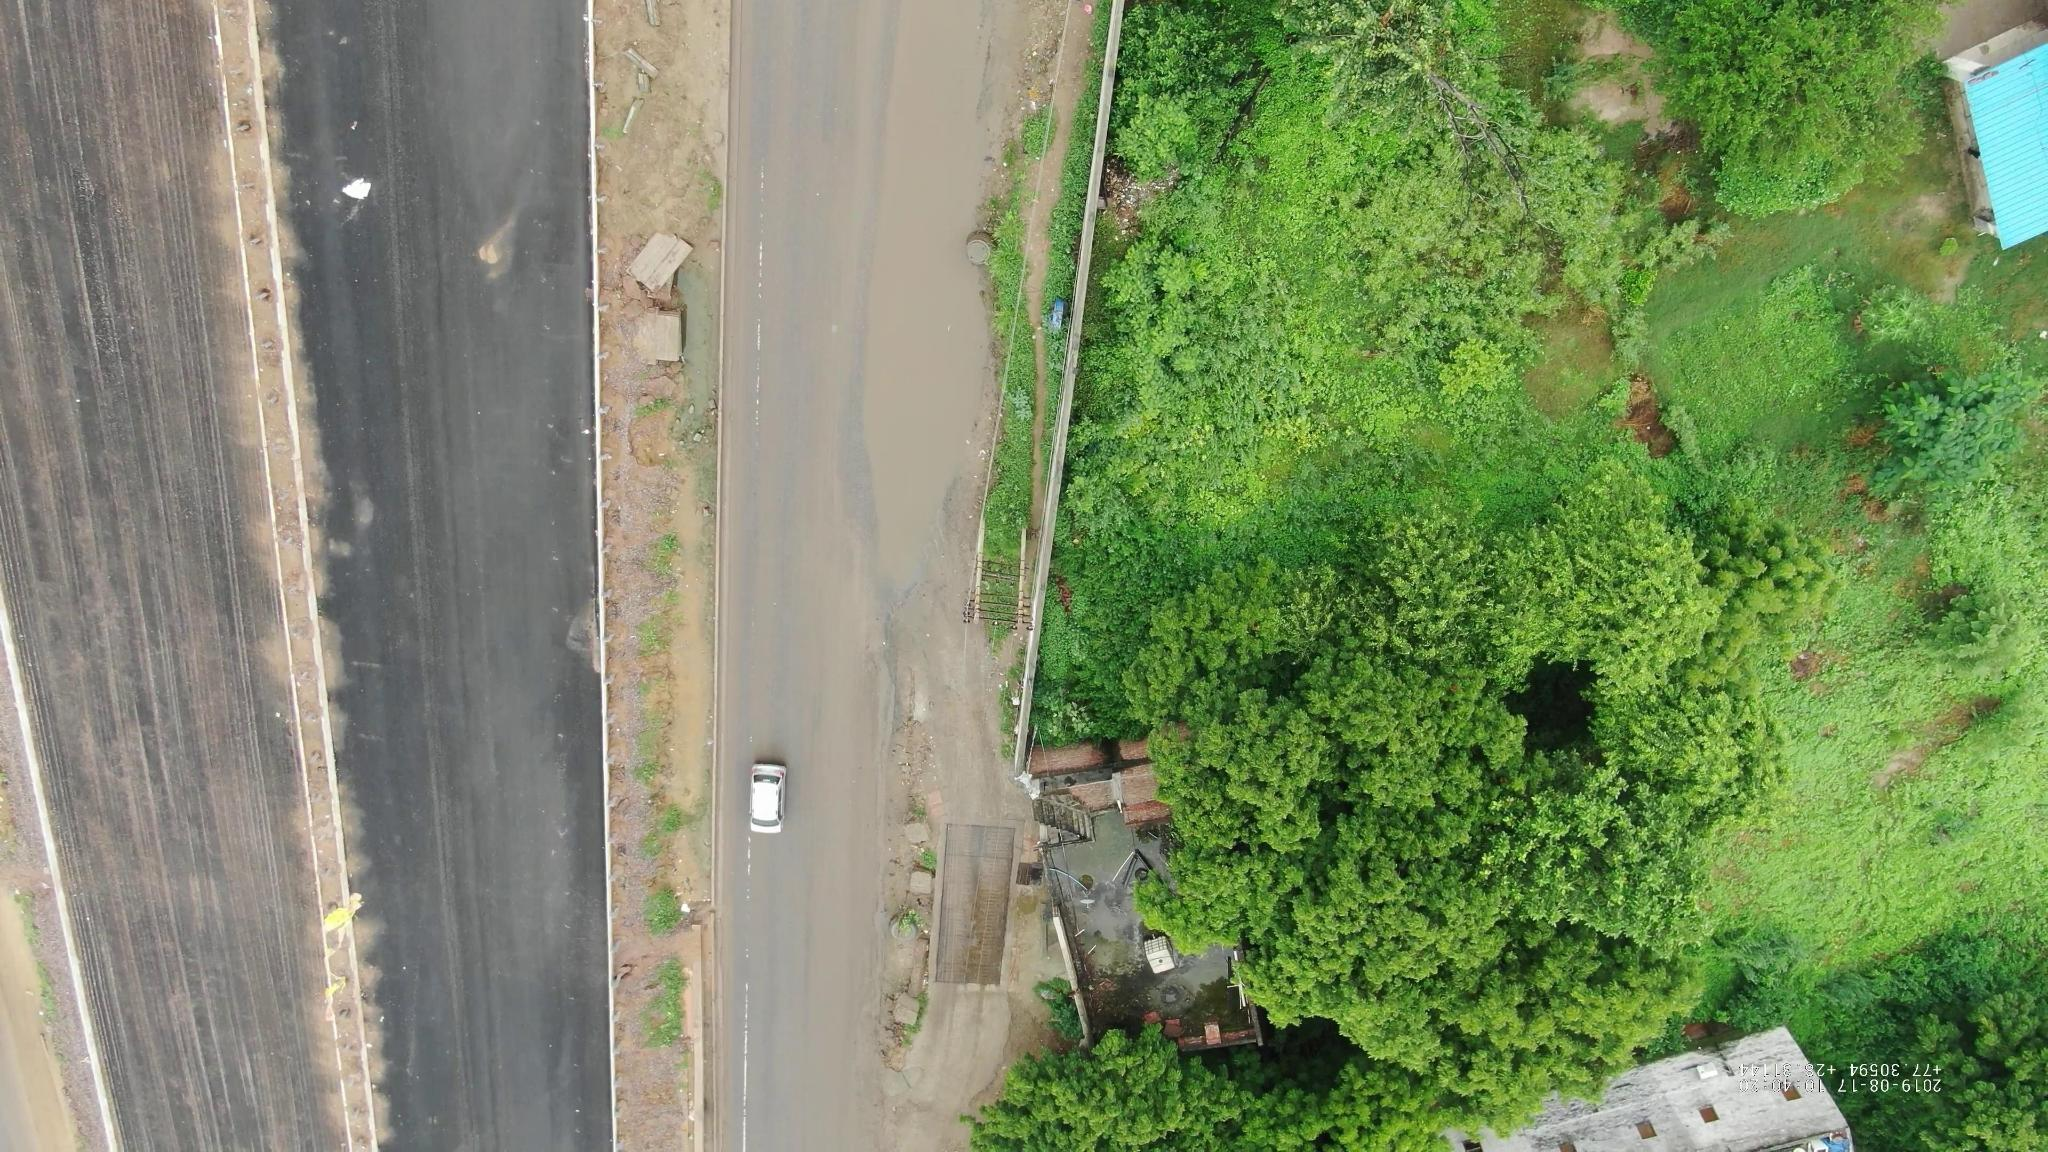Muddy_road: (814, 705, 878, 1037)
Waterlogging: (861, 25, 1024, 582)
